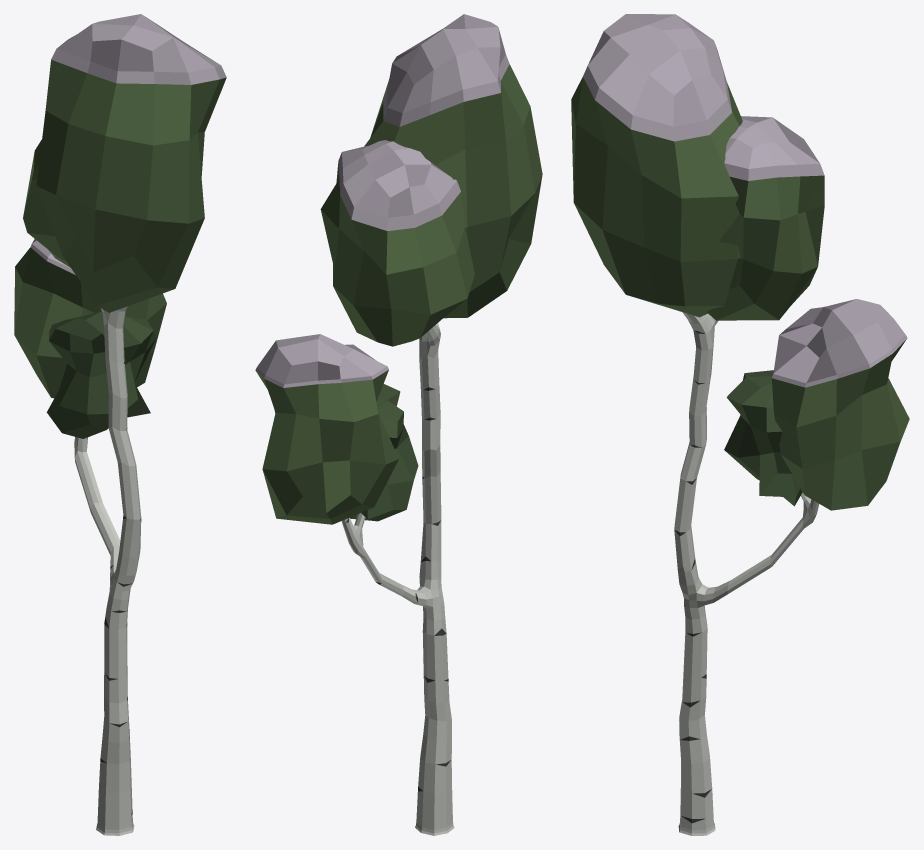
File: BirchTree_Snow_5.glb
3 views of the same model, side by side, from view 1: azimuth 30°, elevation 25°; view 2: azimuth 150°, elevation 25°; view 3: azimuth 270°, elevation 25° (orthographic). The views are drawn at different scales.
Parts seen in each view (by area): view 1: Green, White, Snow, DarkGreen; view 2: Green, Snow, White, DarkGreen; view 3: Green, Snow, White, DarkGreen.
Part boxes in pixels (bbox=[...]): Green: bbox=[14, 59, 226, 398]; White: bbox=[74, 306, 141, 835]; Snow: bbox=[30, 14, 226, 274]; DarkGreen: bbox=[46, 310, 156, 438]; Green: bbox=[255, 64, 542, 524]; Snow: bbox=[255, 14, 509, 387]; White: bbox=[341, 323, 454, 835]; DarkGreen: bbox=[350, 384, 418, 521]; Green: bbox=[571, 77, 909, 510]; Snow: bbox=[583, 14, 907, 387]; White: bbox=[674, 312, 819, 835]; DarkGreen: bbox=[724, 370, 802, 506].
Size of the model in its own units: 1.19 by 5.06 by 1.93.
